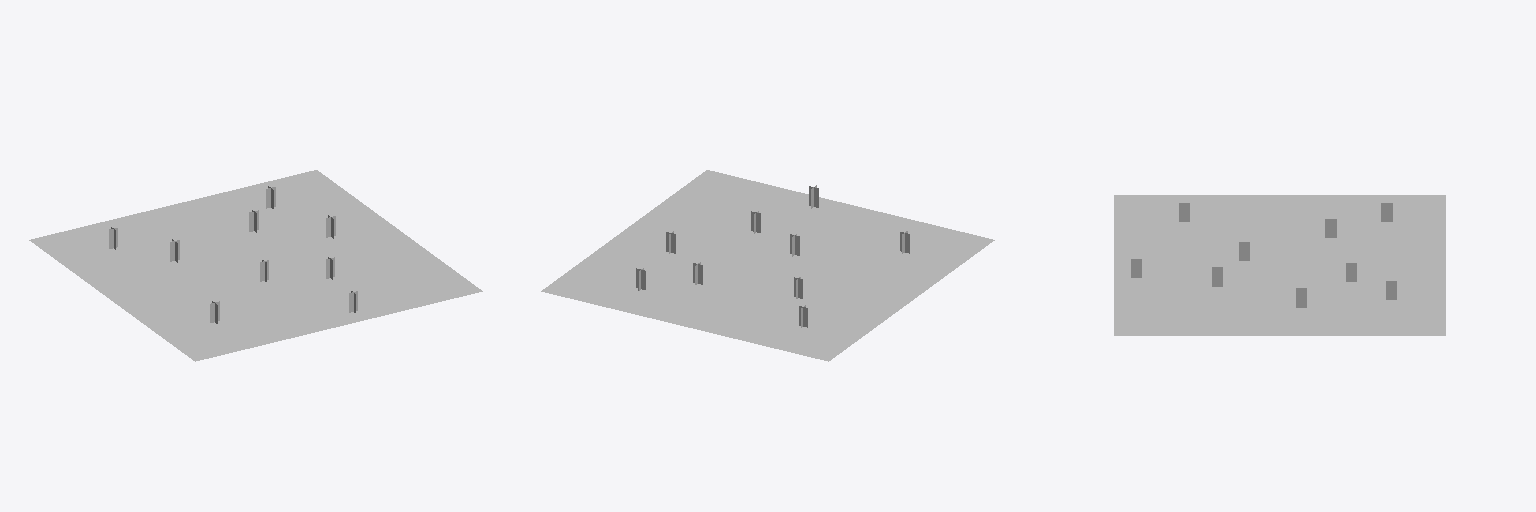
The model's file is desert.obj.
3 views of the same model, side by side, from view 1: azimuth 30°, elevation 25°; view 2: azimuth 150°, elevation 25°; view 3: azimuth 270°, elevation 25° (orthographic).
Parts seen in each view (by area): view 1: pPlane2; view 2: pPlane2; view 3: pPlane2.
Part boxes in pixels (left/top/right/bottom): pPlane2: left=29, top=170, right=482, bottom=361; pPlane2: left=541, top=170, right=994, bottom=361; pPlane2: left=1114, top=195, right=1445, bottom=335.
Size of the model in its own units: 15 by 1 by 15.